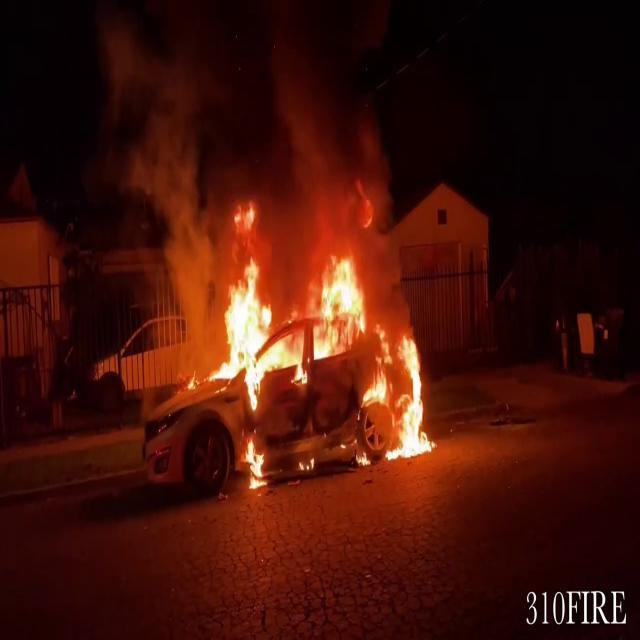Fire: (194, 222, 436, 471), (242, 436, 268, 488)
Smoke: (85, 0, 402, 261)
